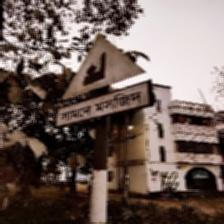Mosque in front: (55, 33, 151, 128)
